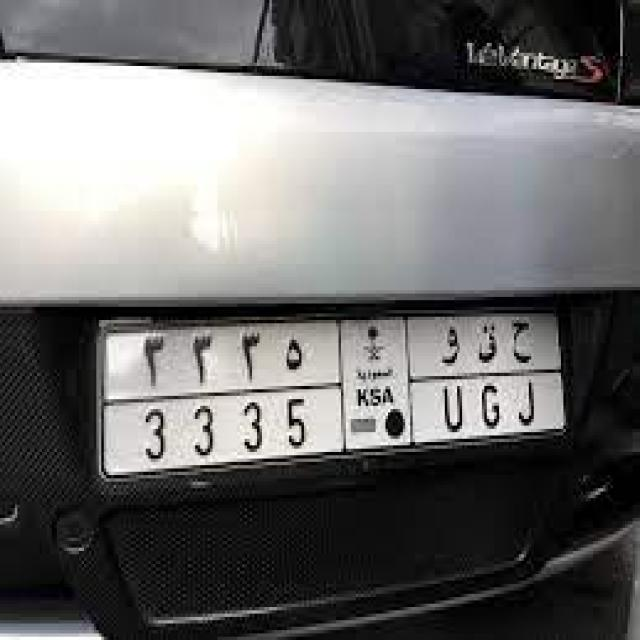license_plate: (101, 293, 564, 465)
